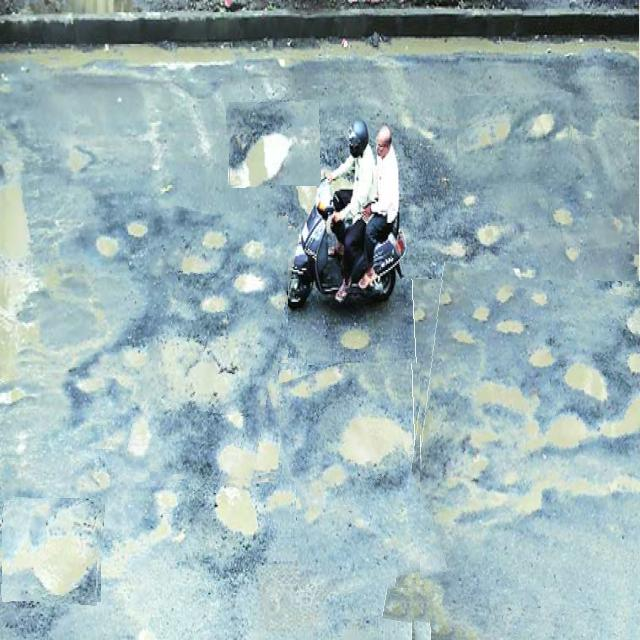Pothole: (396, 270, 640, 640), (136, 211, 288, 487), (278, 363, 420, 594), (457, 92, 575, 188), (2, 498, 103, 604), (227, 100, 320, 186), (82, 221, 128, 281)
